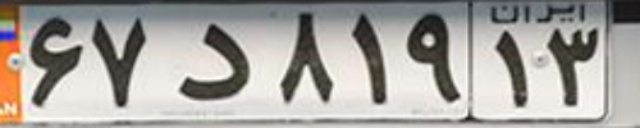1: (351, 13, 387, 103), (495, 29, 531, 106)
3: (545, 26, 601, 107)
6: (28, 16, 82, 107)
7: (89, 17, 146, 107)
8: (280, 12, 332, 102)
9: (404, 13, 460, 102)
dal: (177, 23, 249, 100)
